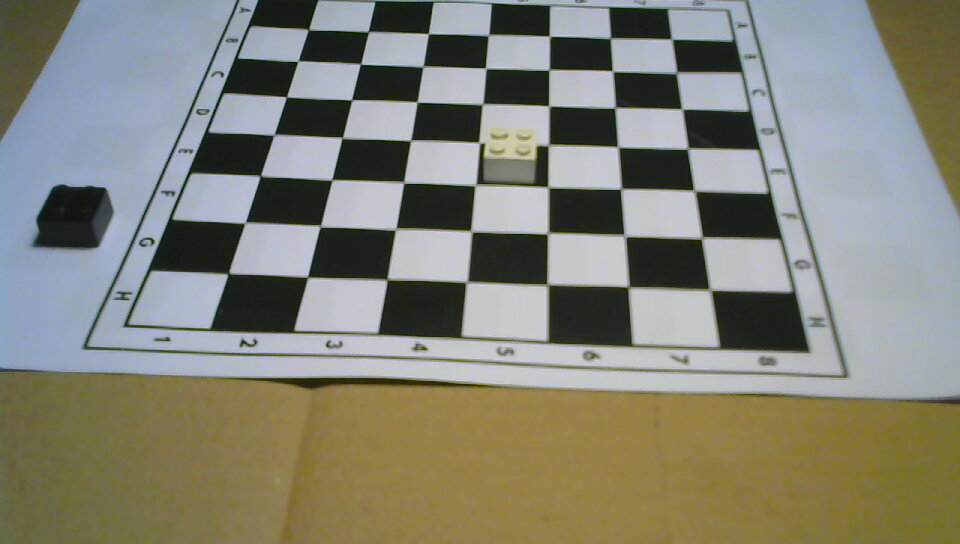bp: (35, 183, 114, 249)
wp: (483, 126, 536, 184)
